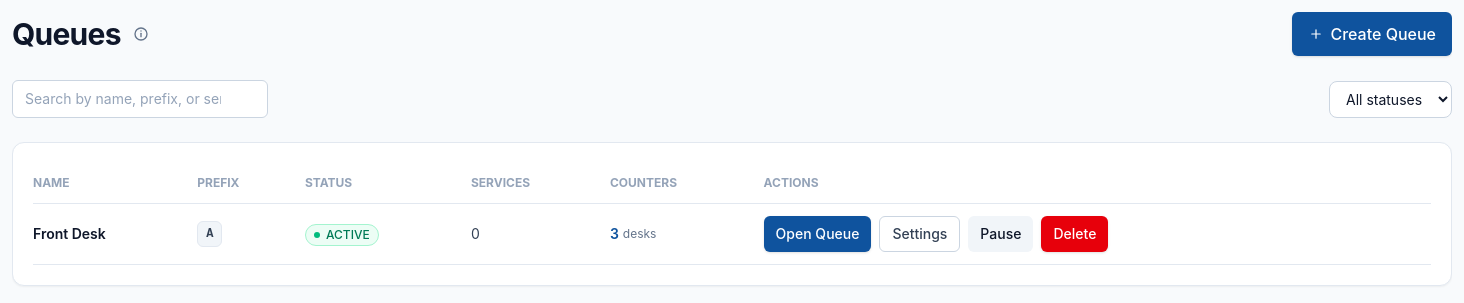
Scenario: QueuesPage — search › shows a search-specific empty state, and restores the list when cleared
In the search field named "Search queues": (140, 99) [12,80,268,118], type "nothing-matches-this"
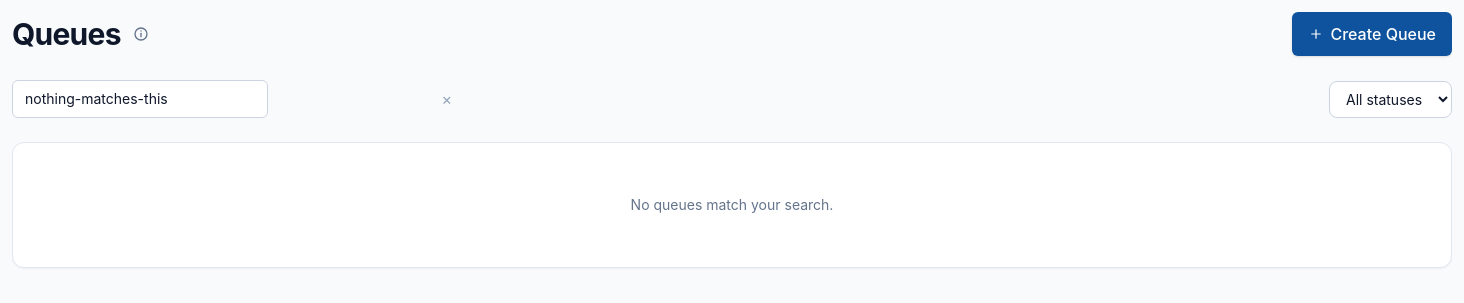
Result: the text "No queues match your search." is shown at [631,196,833,213]
Click the button named "Clear search": (447, 99) [441,87,452,111]
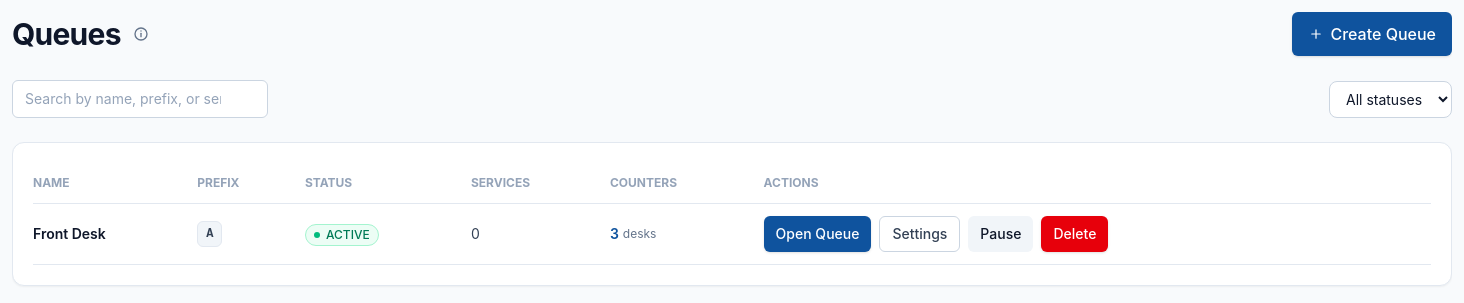
Result: the link "Front Desk" is shown at [33,225,106,242]
